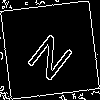N: (25, 25, 81, 84)
